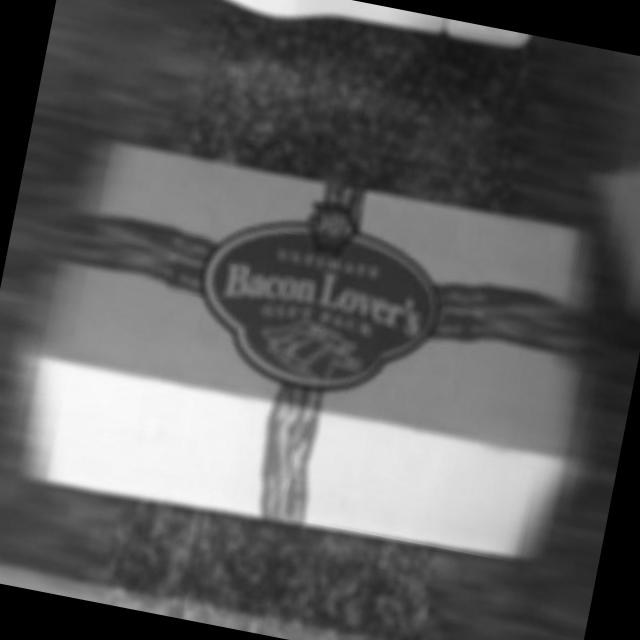box: (4, 103, 606, 582)
